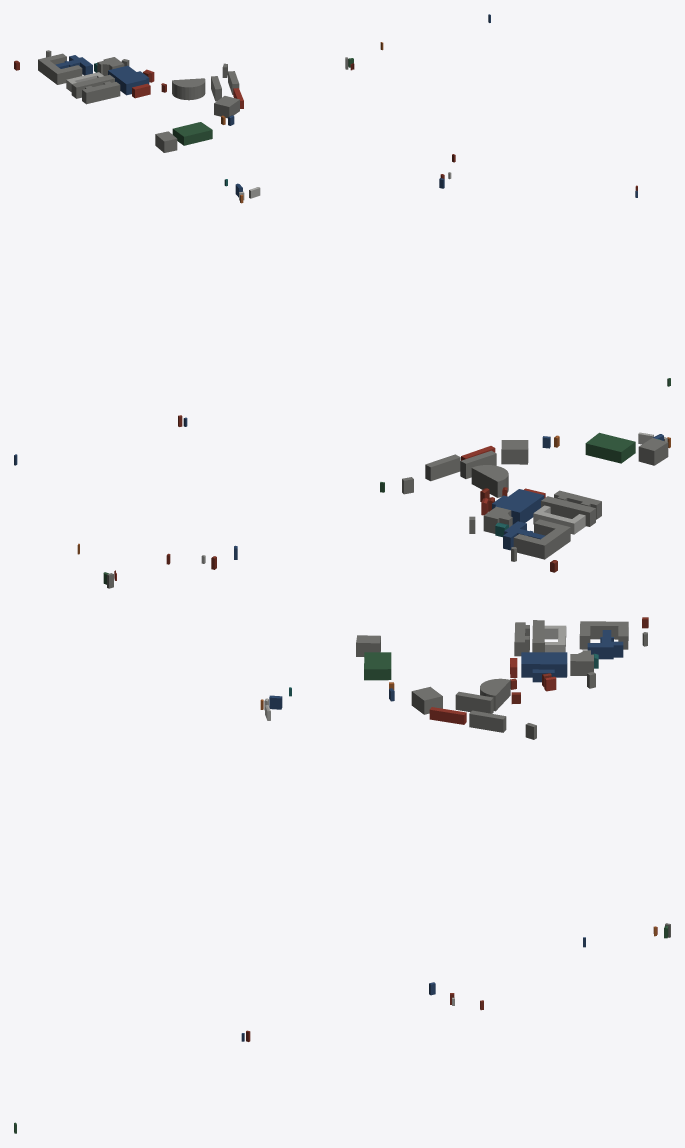
Rendered from near-15-27363-14874.df4b7aee.glb.
3 renders of one model, top to bottom at view 1: azimuth 30°, elevation 25°; view 2: azimuth 150°, elevation 25°; view 3: azimuth 270°, elevation 25°, orthographic. The views are drawn at different scales.
Size of the model in its own units: 1087 by 532 by 1104.
